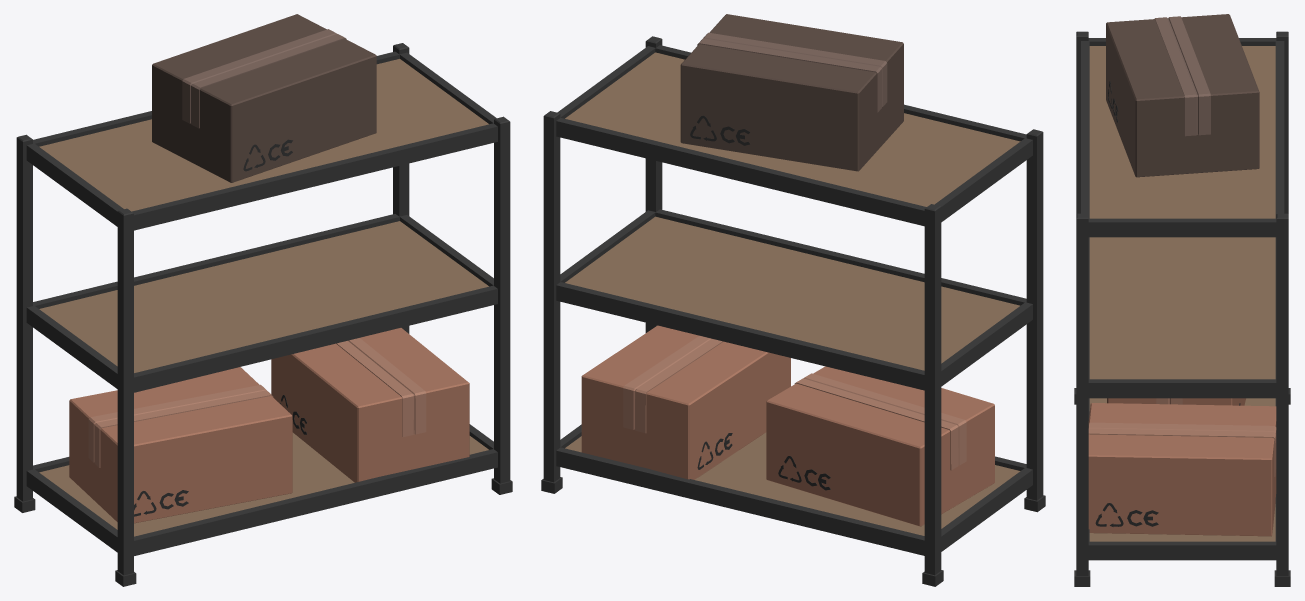
File: props_56.glb
The picture shows the model from 3 angles, left to right: view 1: azimuth 30°, elevation 25°; view 2: azimuth 150°, elevation 25°; view 3: azimuth 270°, elevation 25°; orthographic projection. The views are drawn at different scales.
Visible parts, largest first — view 1: props_56; view 2: props_56; view 3: props_56.
Part boxes in pixels (bbox=[...]): props_56: bbox=[14, 14, 512, 586]; props_56: bbox=[541, 14, 1045, 586]; props_56: bbox=[1074, 14, 1290, 586].
Bounding box in the file's own units: 1.97 × 2.13 × 0.9536.
Materials: 1 (1 with a texture image).
